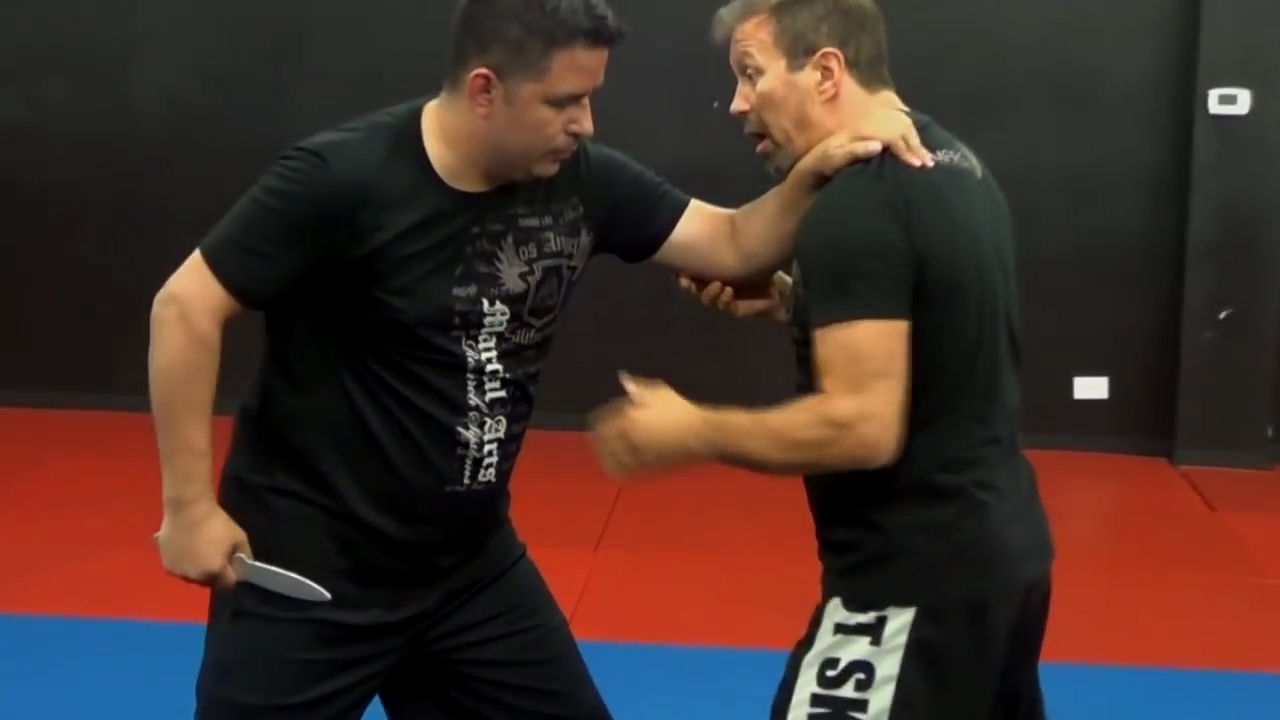knife: (150, 522, 340, 611)
